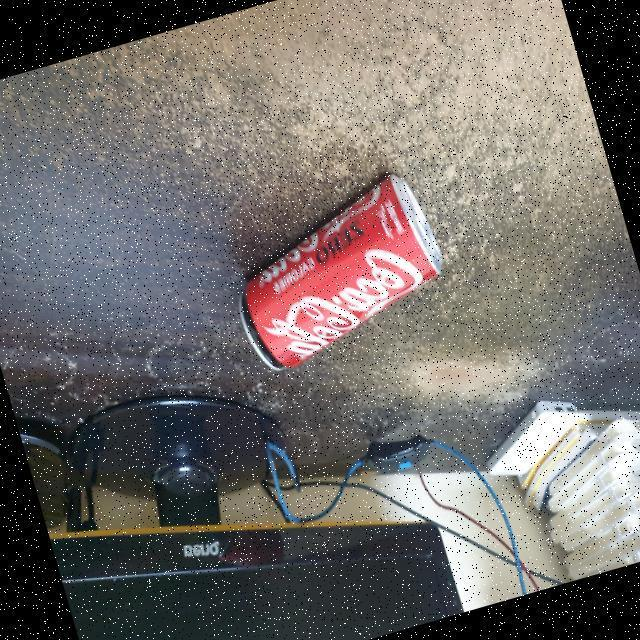can: (186, 146, 476, 394)
